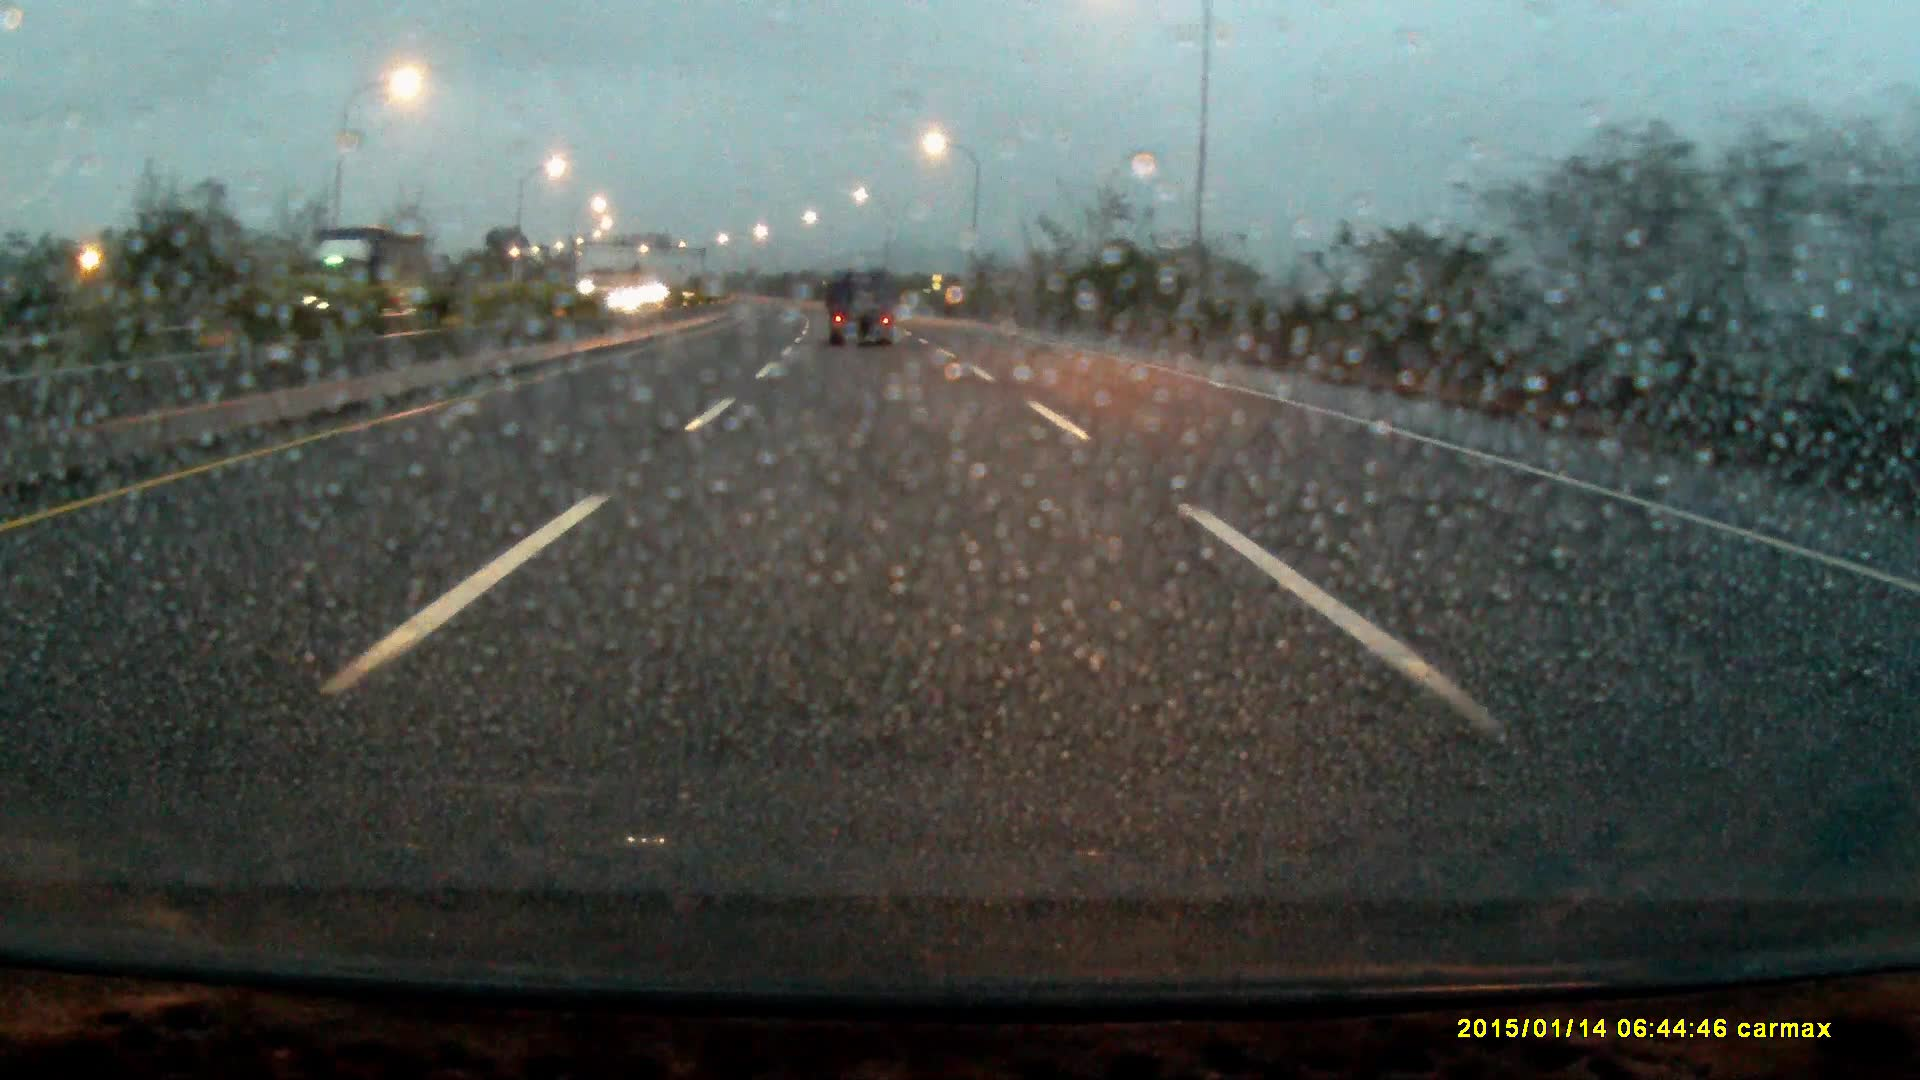vehicle: (281, 229, 435, 342), (827, 276, 899, 349), (605, 290, 650, 313)
